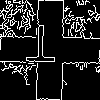T: (25, 25, 56, 71)
